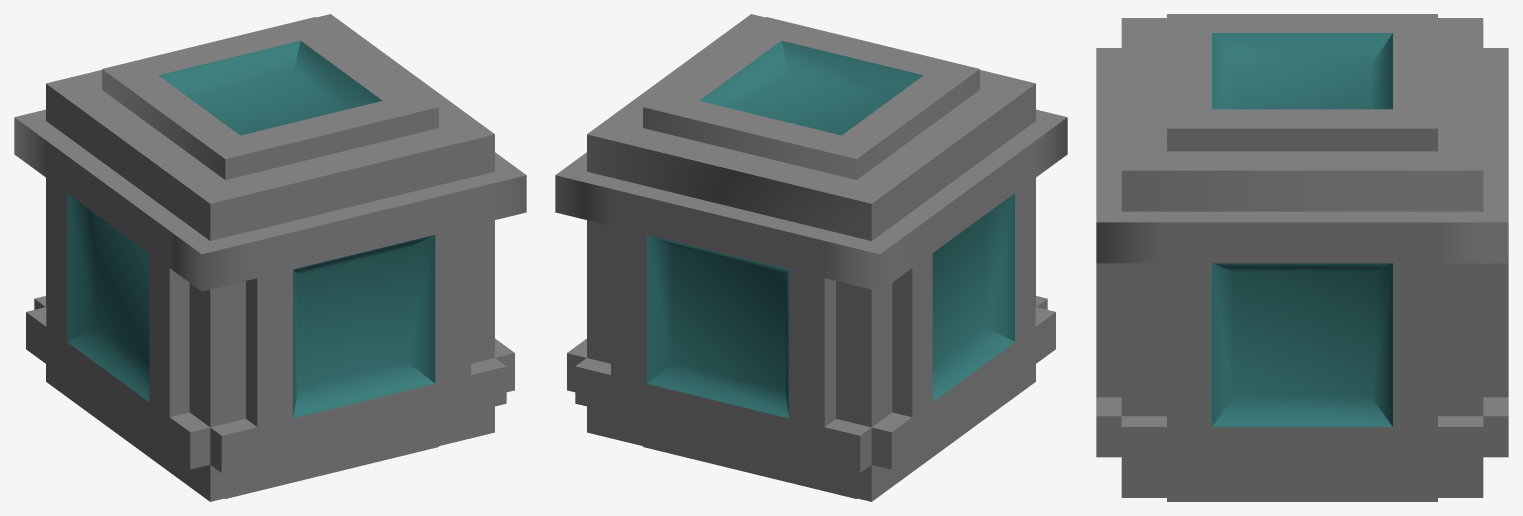
The model's file is lightTestCube.fbx.
3 views of the same model, side by side, from view 1: azimuth 30°, elevation 25°; view 2: azimuth 150°, elevation 25°; view 3: azimuth 270°, elevation 25° (orthographic). The views are drawn at different scales.
Visible parts, largest first — view 1: pCubeLowpoly; view 2: pCubeLowpoly; view 3: pCubeLowpoly.
Boxes of the visible parts, x1,y1,x2,y2 form: pCubeLowpoly: (14, 14, 526, 501); pCubeLowpoly: (555, 14, 1067, 501); pCubeLowpoly: (1096, 14, 1508, 501).
Bounding box in the file's own units: 114 × 114 × 114.
